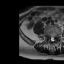CCS_normal: (52, 35, 53, 42)
LFS_severe_stenosis: (55, 34, 56, 38)
LLS_normal: (53, 35, 54, 42)
RFS_severe_stenosis: (48, 34, 50, 38)
RLS_normal: (50, 35, 52, 41)
